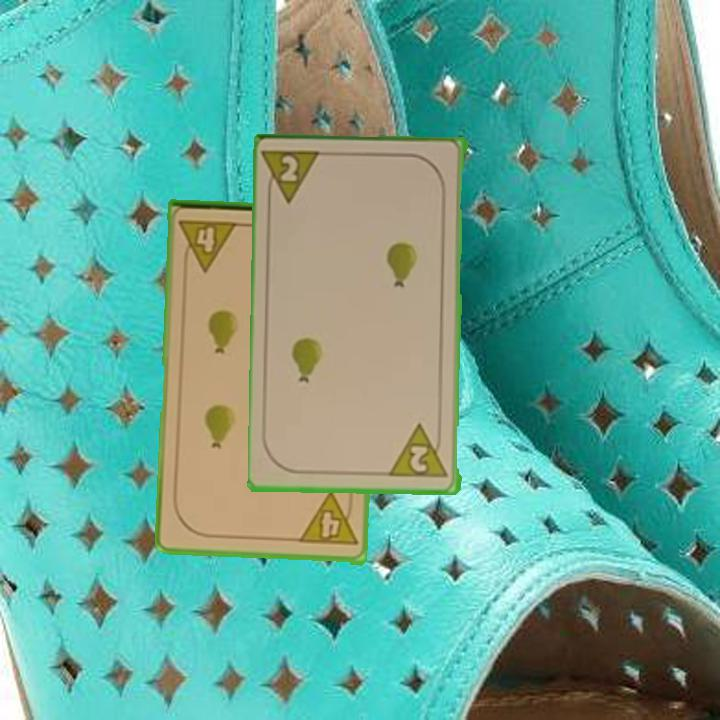2p: (262, 147, 327, 208), (388, 421, 452, 481)
4p: (295, 490, 360, 549), (176, 216, 241, 274)
